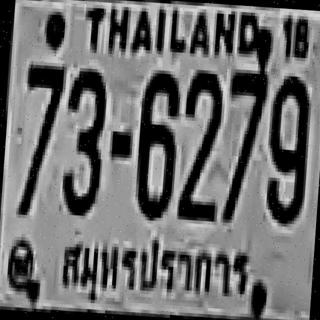N02: (177, 67, 224, 210), (177, 67, 223, 198)
N03: (58, 64, 106, 213)
N06: (132, 68, 180, 217)
N07: (220, 65, 266, 221), (16, 61, 64, 210), (17, 61, 64, 194), (20, 61, 64, 162), (224, 67, 266, 172)
N09: (263, 72, 311, 221)
P57: (52, 230, 254, 308)
